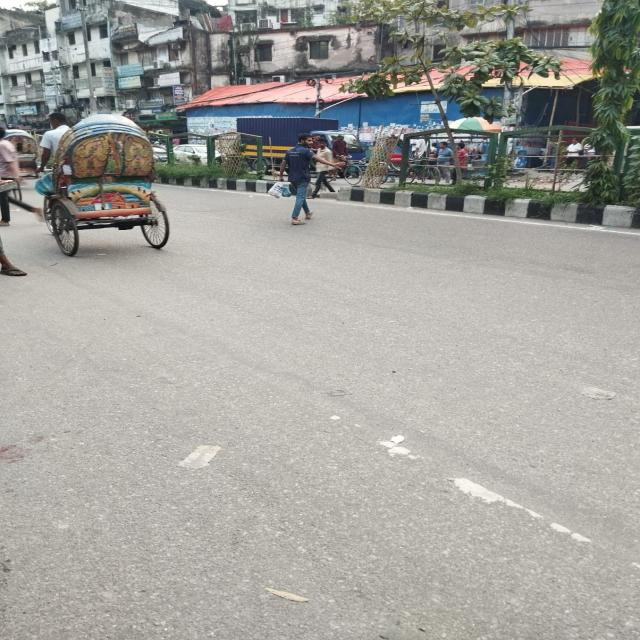person: (278, 132, 316, 226)
